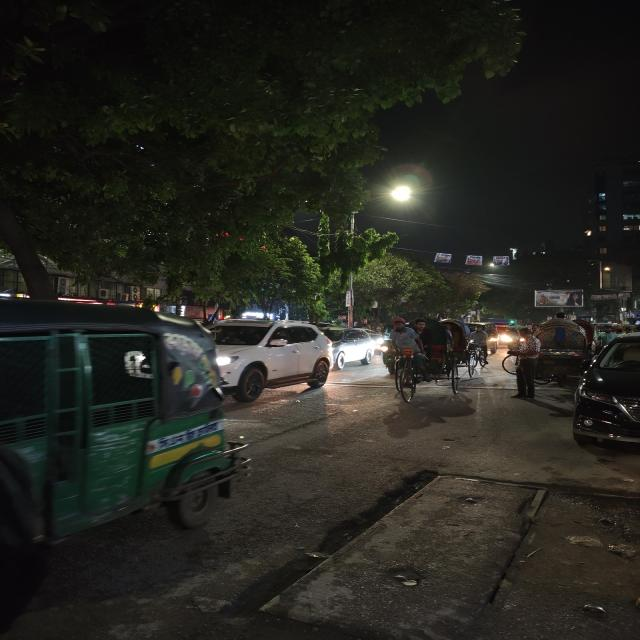car: (210, 316, 337, 408), (570, 329, 640, 461), (327, 325, 380, 373)
cng: (0, 296, 256, 548)
rickshaw: (510, 314, 596, 400), (391, 316, 466, 402), (488, 323, 524, 347)
